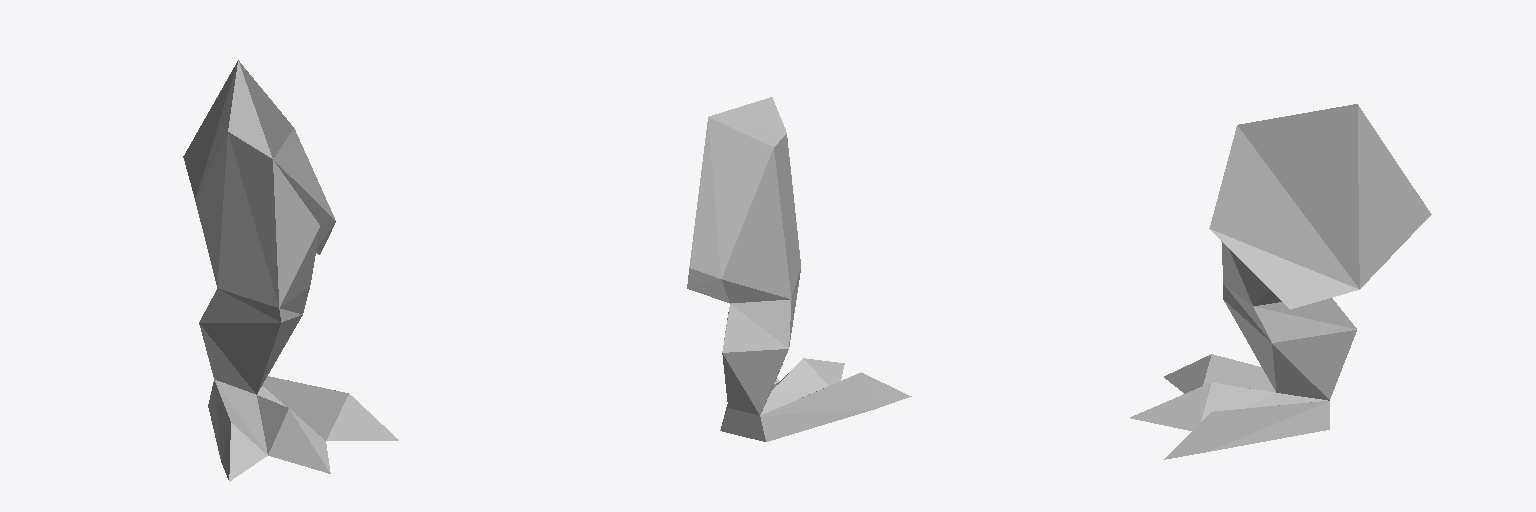
The model's file is LEG1.obj.
3 renders of one model, left to right at view 1: azimuth 30°, elevation 25°; view 2: azimuth 150°, elevation 25°; view 3: azimuth 270°, elevation 25°, orthographic.
Parts seen in each view (by area): view 1: polySurface1; view 2: polySurface1; view 3: polySurface1.
Part boxes in pixels (bbox=[...]): polySurface1: bbox=[183, 60, 398, 481]; polySurface1: bbox=[687, 97, 911, 441]; polySurface1: bbox=[1130, 104, 1431, 459].
Bounding box in the file's own units: 0.2742 × 0.5001 × 0.4226.